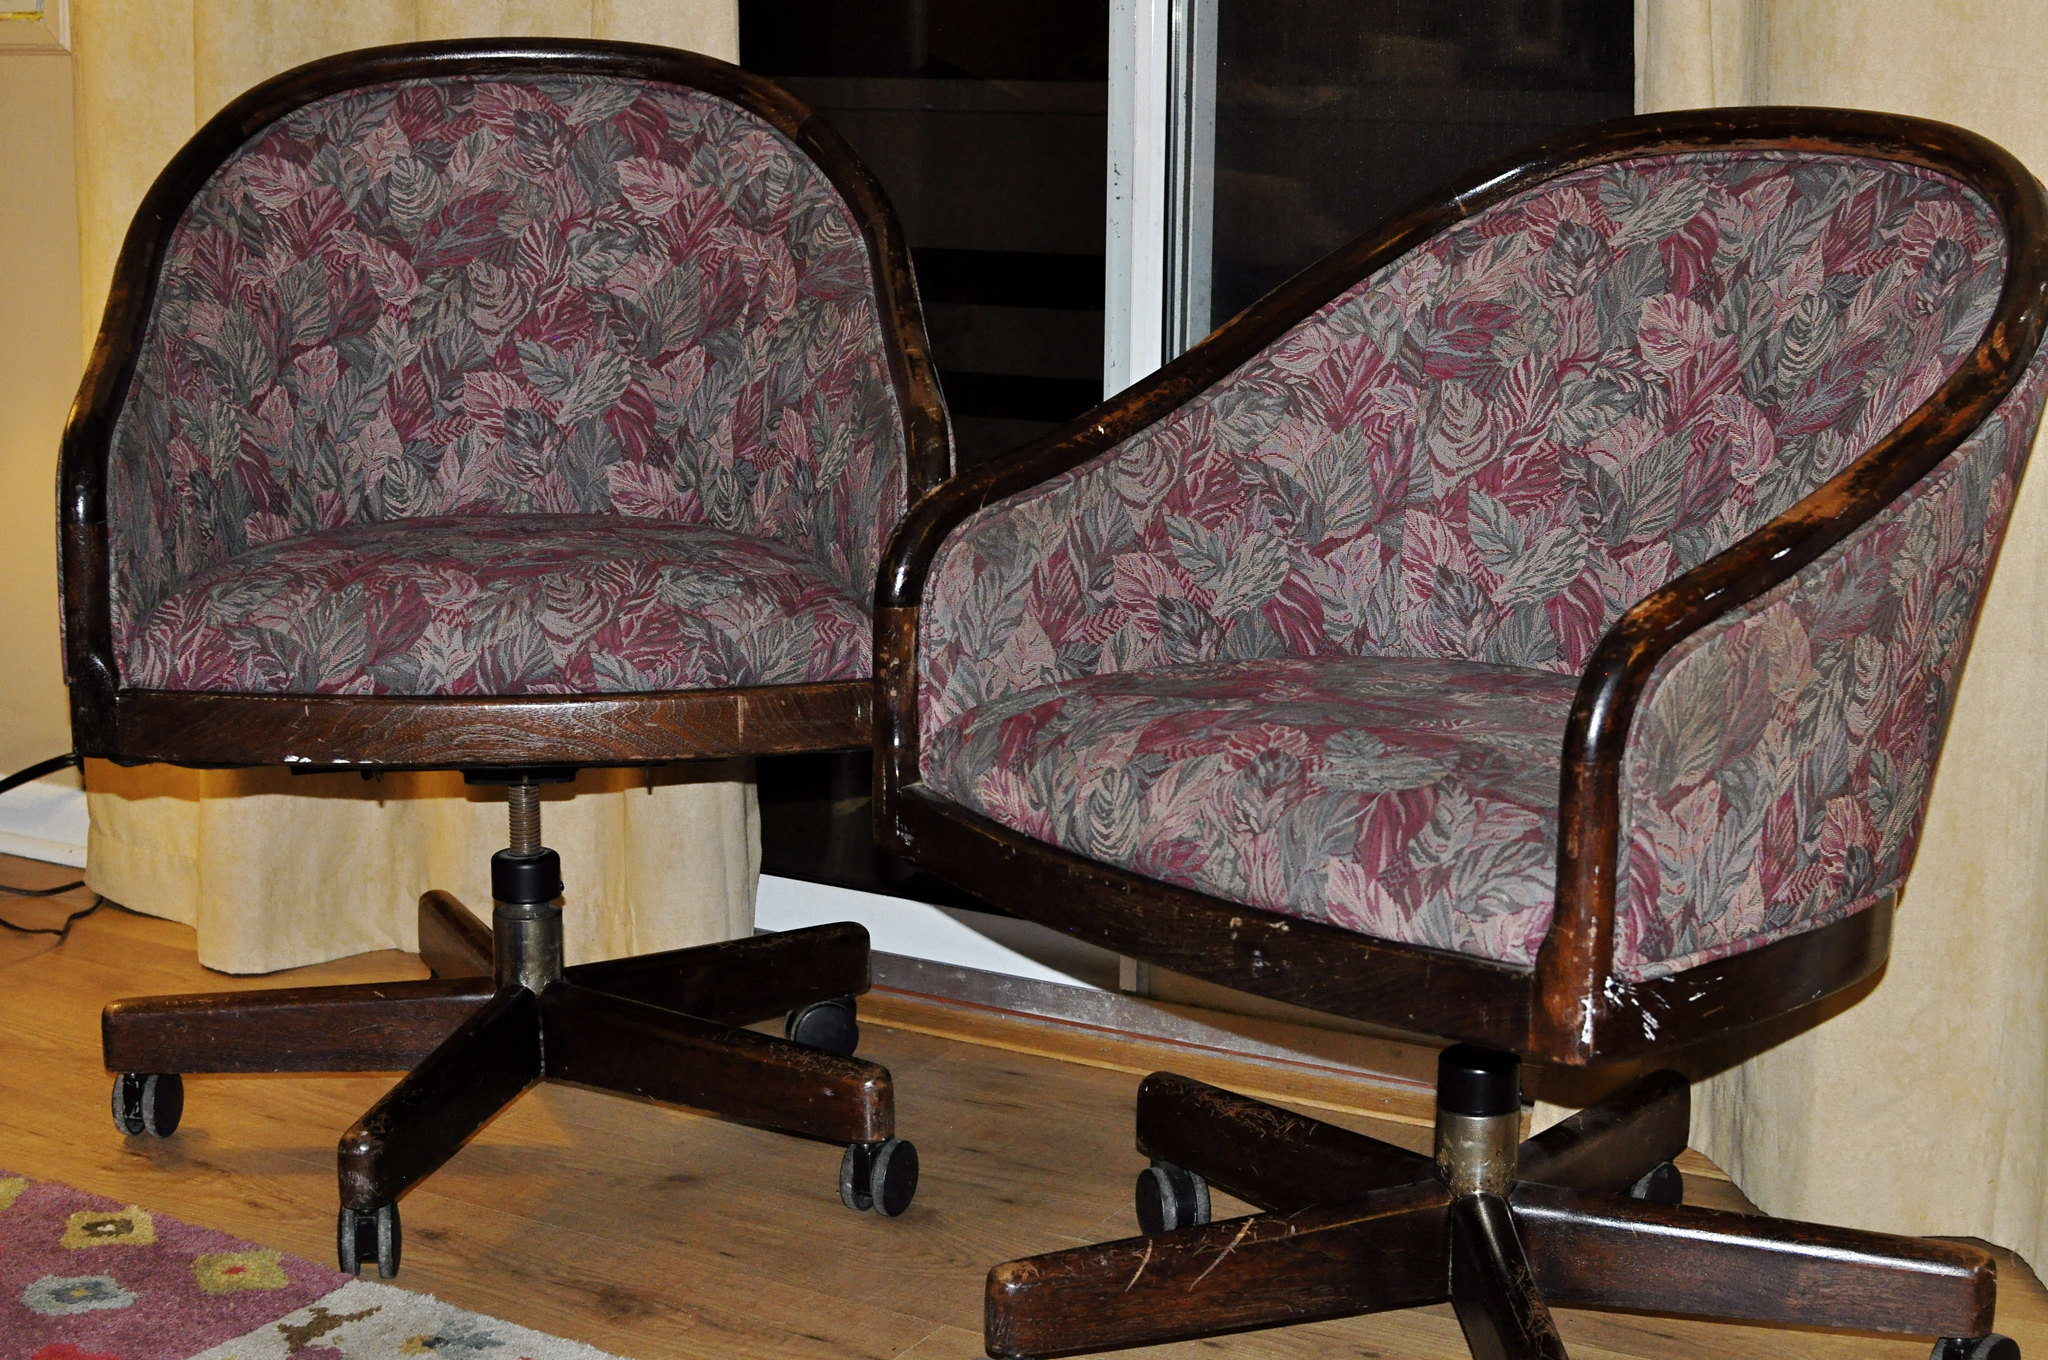chair: (850, 82, 2037, 1360), (61, 39, 966, 1264)
